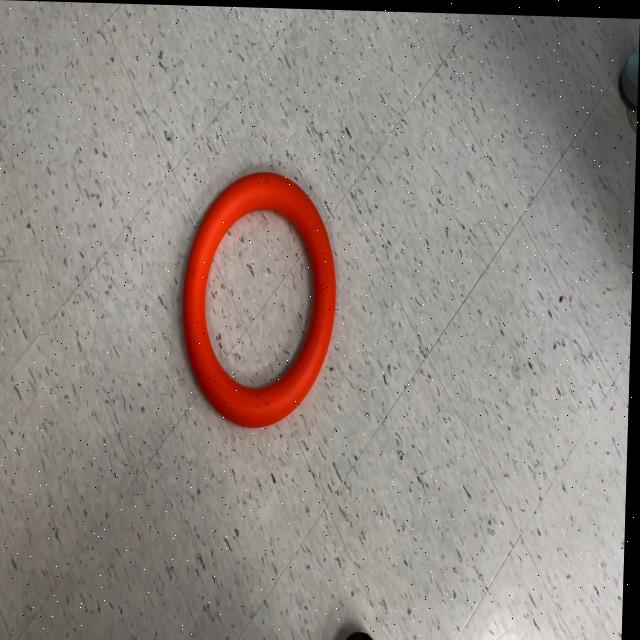note: (181, 168, 340, 428)
